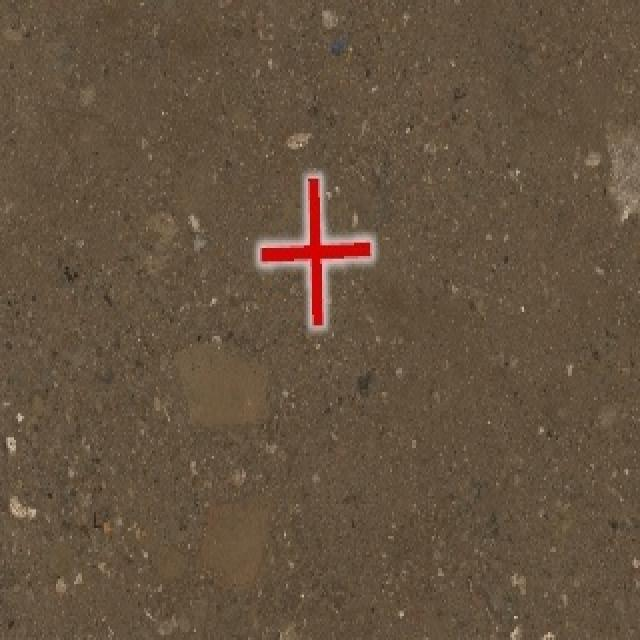x_marker: (259, 177, 371, 324)
